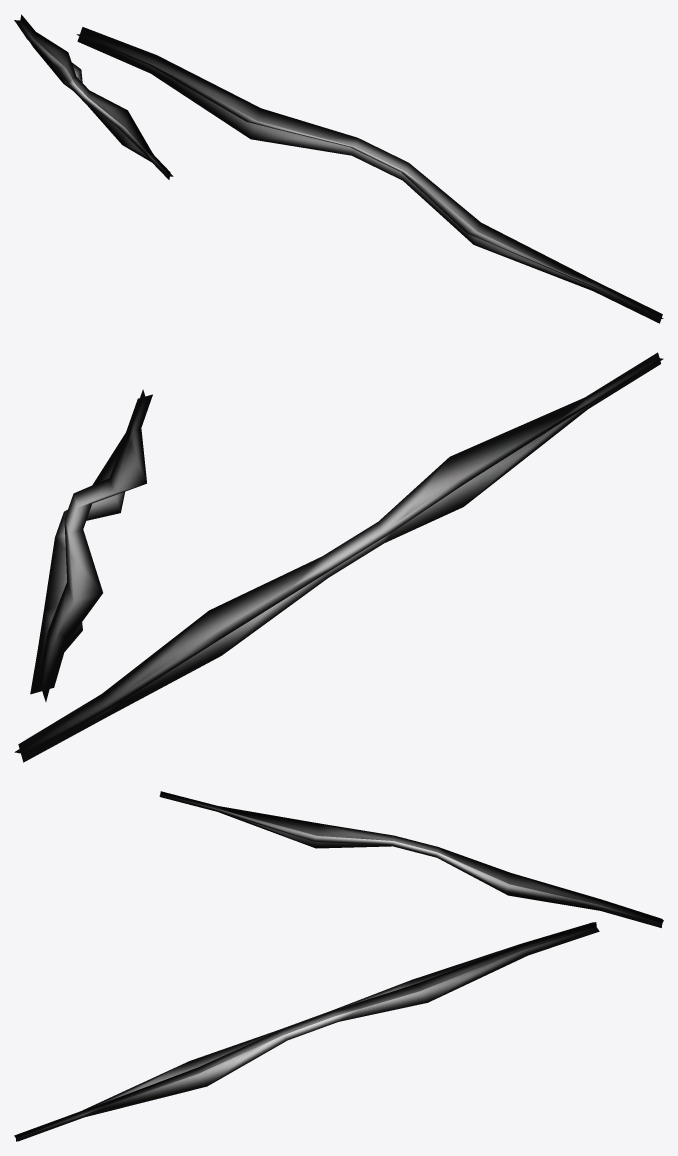
Rendered from vfx_kurp_0593.dae.
3 views of the same model, one above another, from view 1: azimuth 30°, elevation 25°; view 2: azimuth 150°, elevation 25°; view 3: azimuth 270°, elevation 25° (orthographic). The views are drawn at different scales.
Visible parts, largest first — view 1: vfx_kurp_0593; view 2: vfx_kurp_0593; view 3: vfx_kurp_0593.
Boxes of the visible parts, x1,y1,x2,y2 form: vfx_kurp_0593: (14,14,663,323); vfx_kurp_0593: (14,352,663,762); vfx_kurp_0593: (14,791,663,1141).
Bounding box in the file's own units: 9.35 × 14.06 × 4.1.
Materials: 1 (1 with a texture image).
